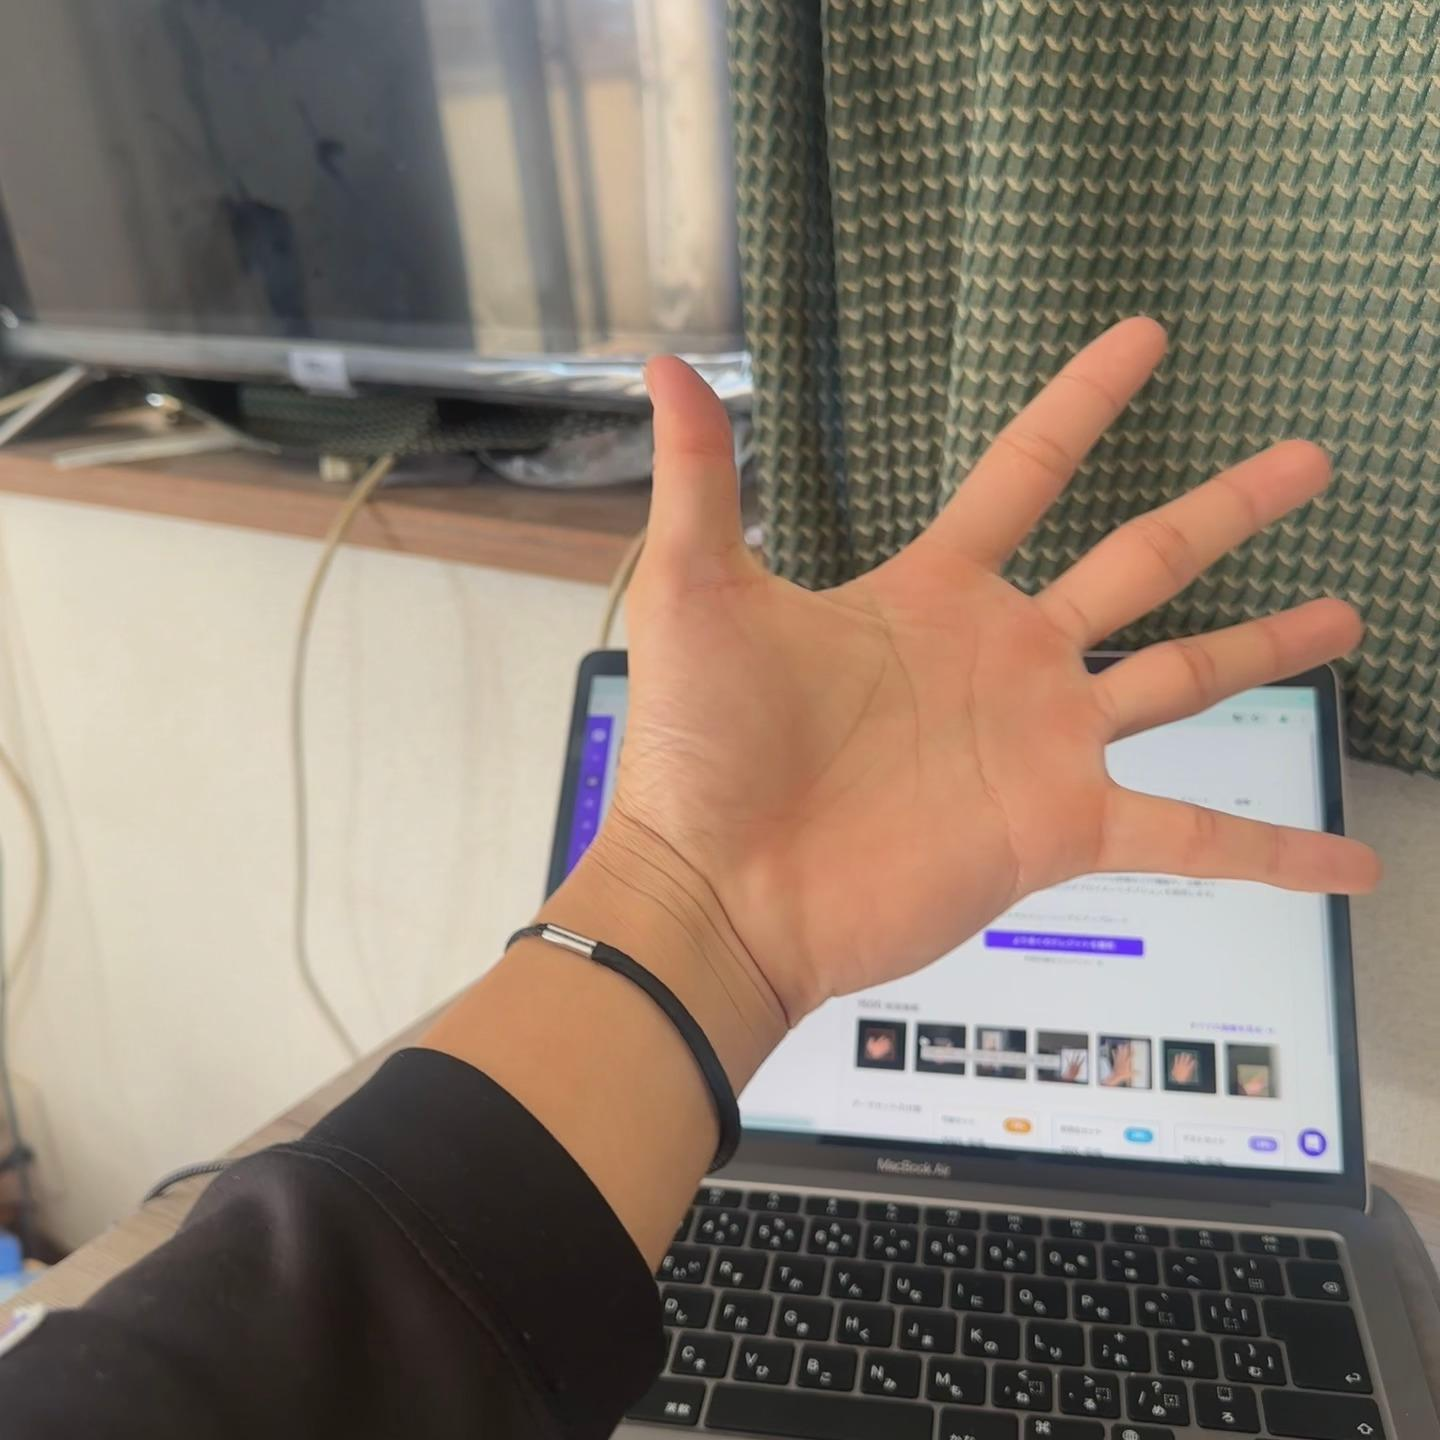without_gloves: (539, 196, 1440, 1182)
